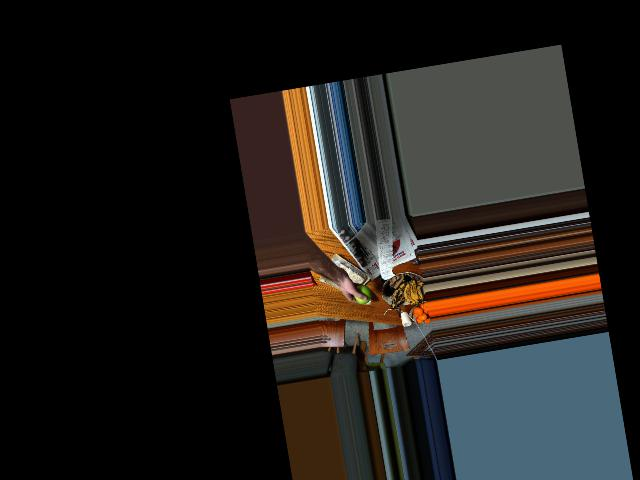apple: (351, 284, 373, 305)
